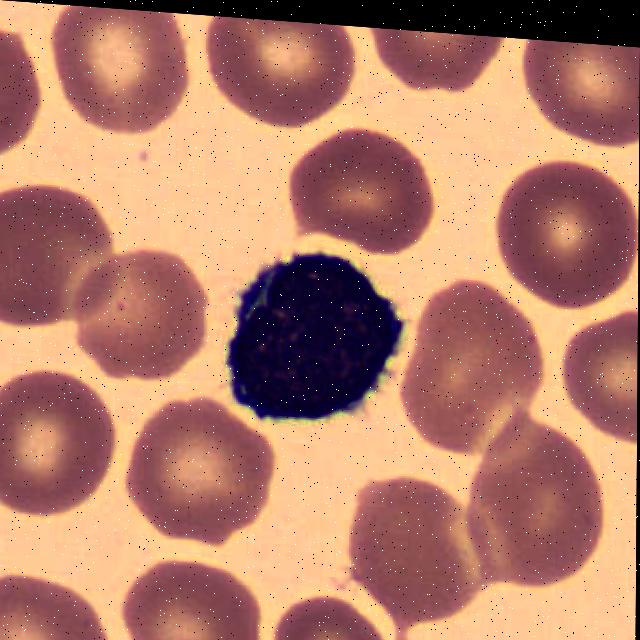lymphocyte: (212, 248, 405, 435)
rbc: (394, 283, 548, 447), (462, 428, 608, 591), (128, 399, 273, 551), (340, 475, 483, 618), (506, 155, 639, 306), (283, 132, 439, 255), (0, 362, 111, 528), (76, 244, 204, 387), (0, 174, 115, 331), (52, 4, 184, 133), (207, 16, 347, 124), (523, 39, 640, 148), (562, 296, 638, 447), (120, 559, 255, 640), (368, 27, 512, 98), (0, 574, 104, 640), (0, 29, 37, 156), (269, 602, 382, 640)
